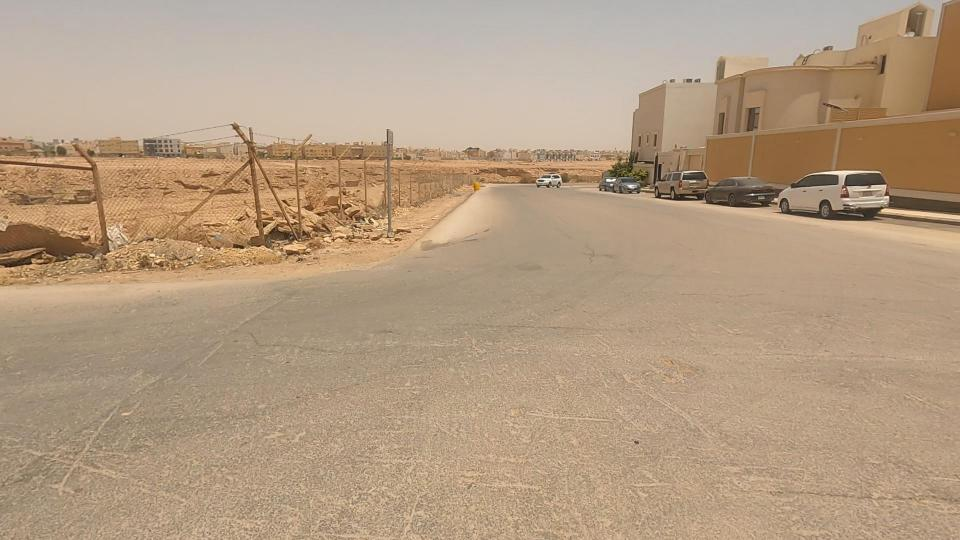GARBAGE: (82, 210, 158, 273), (175, 214, 253, 258)
